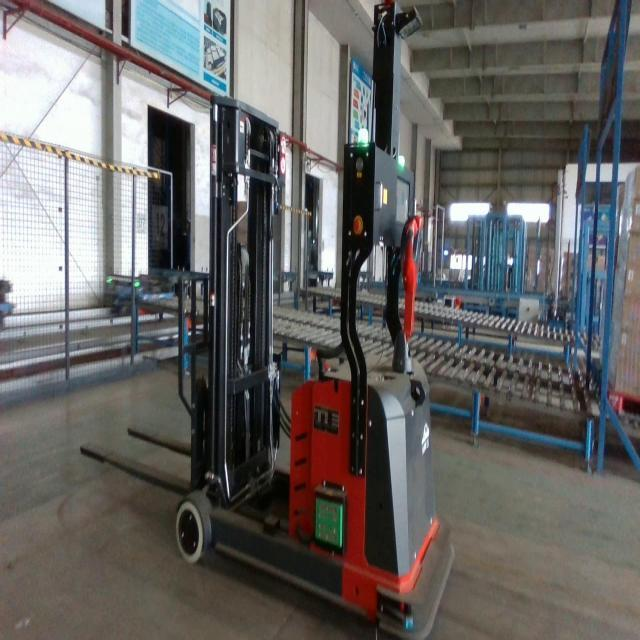forklift: (79, 0, 457, 640)
